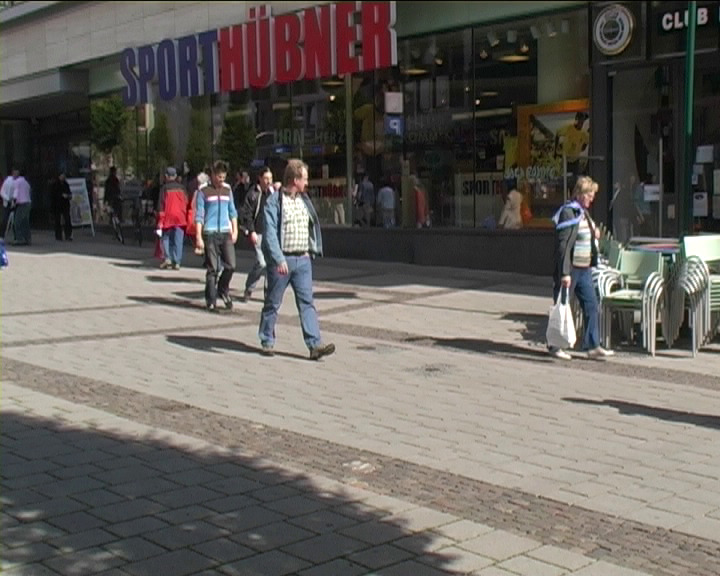deflection: (269, 158, 322, 241)
